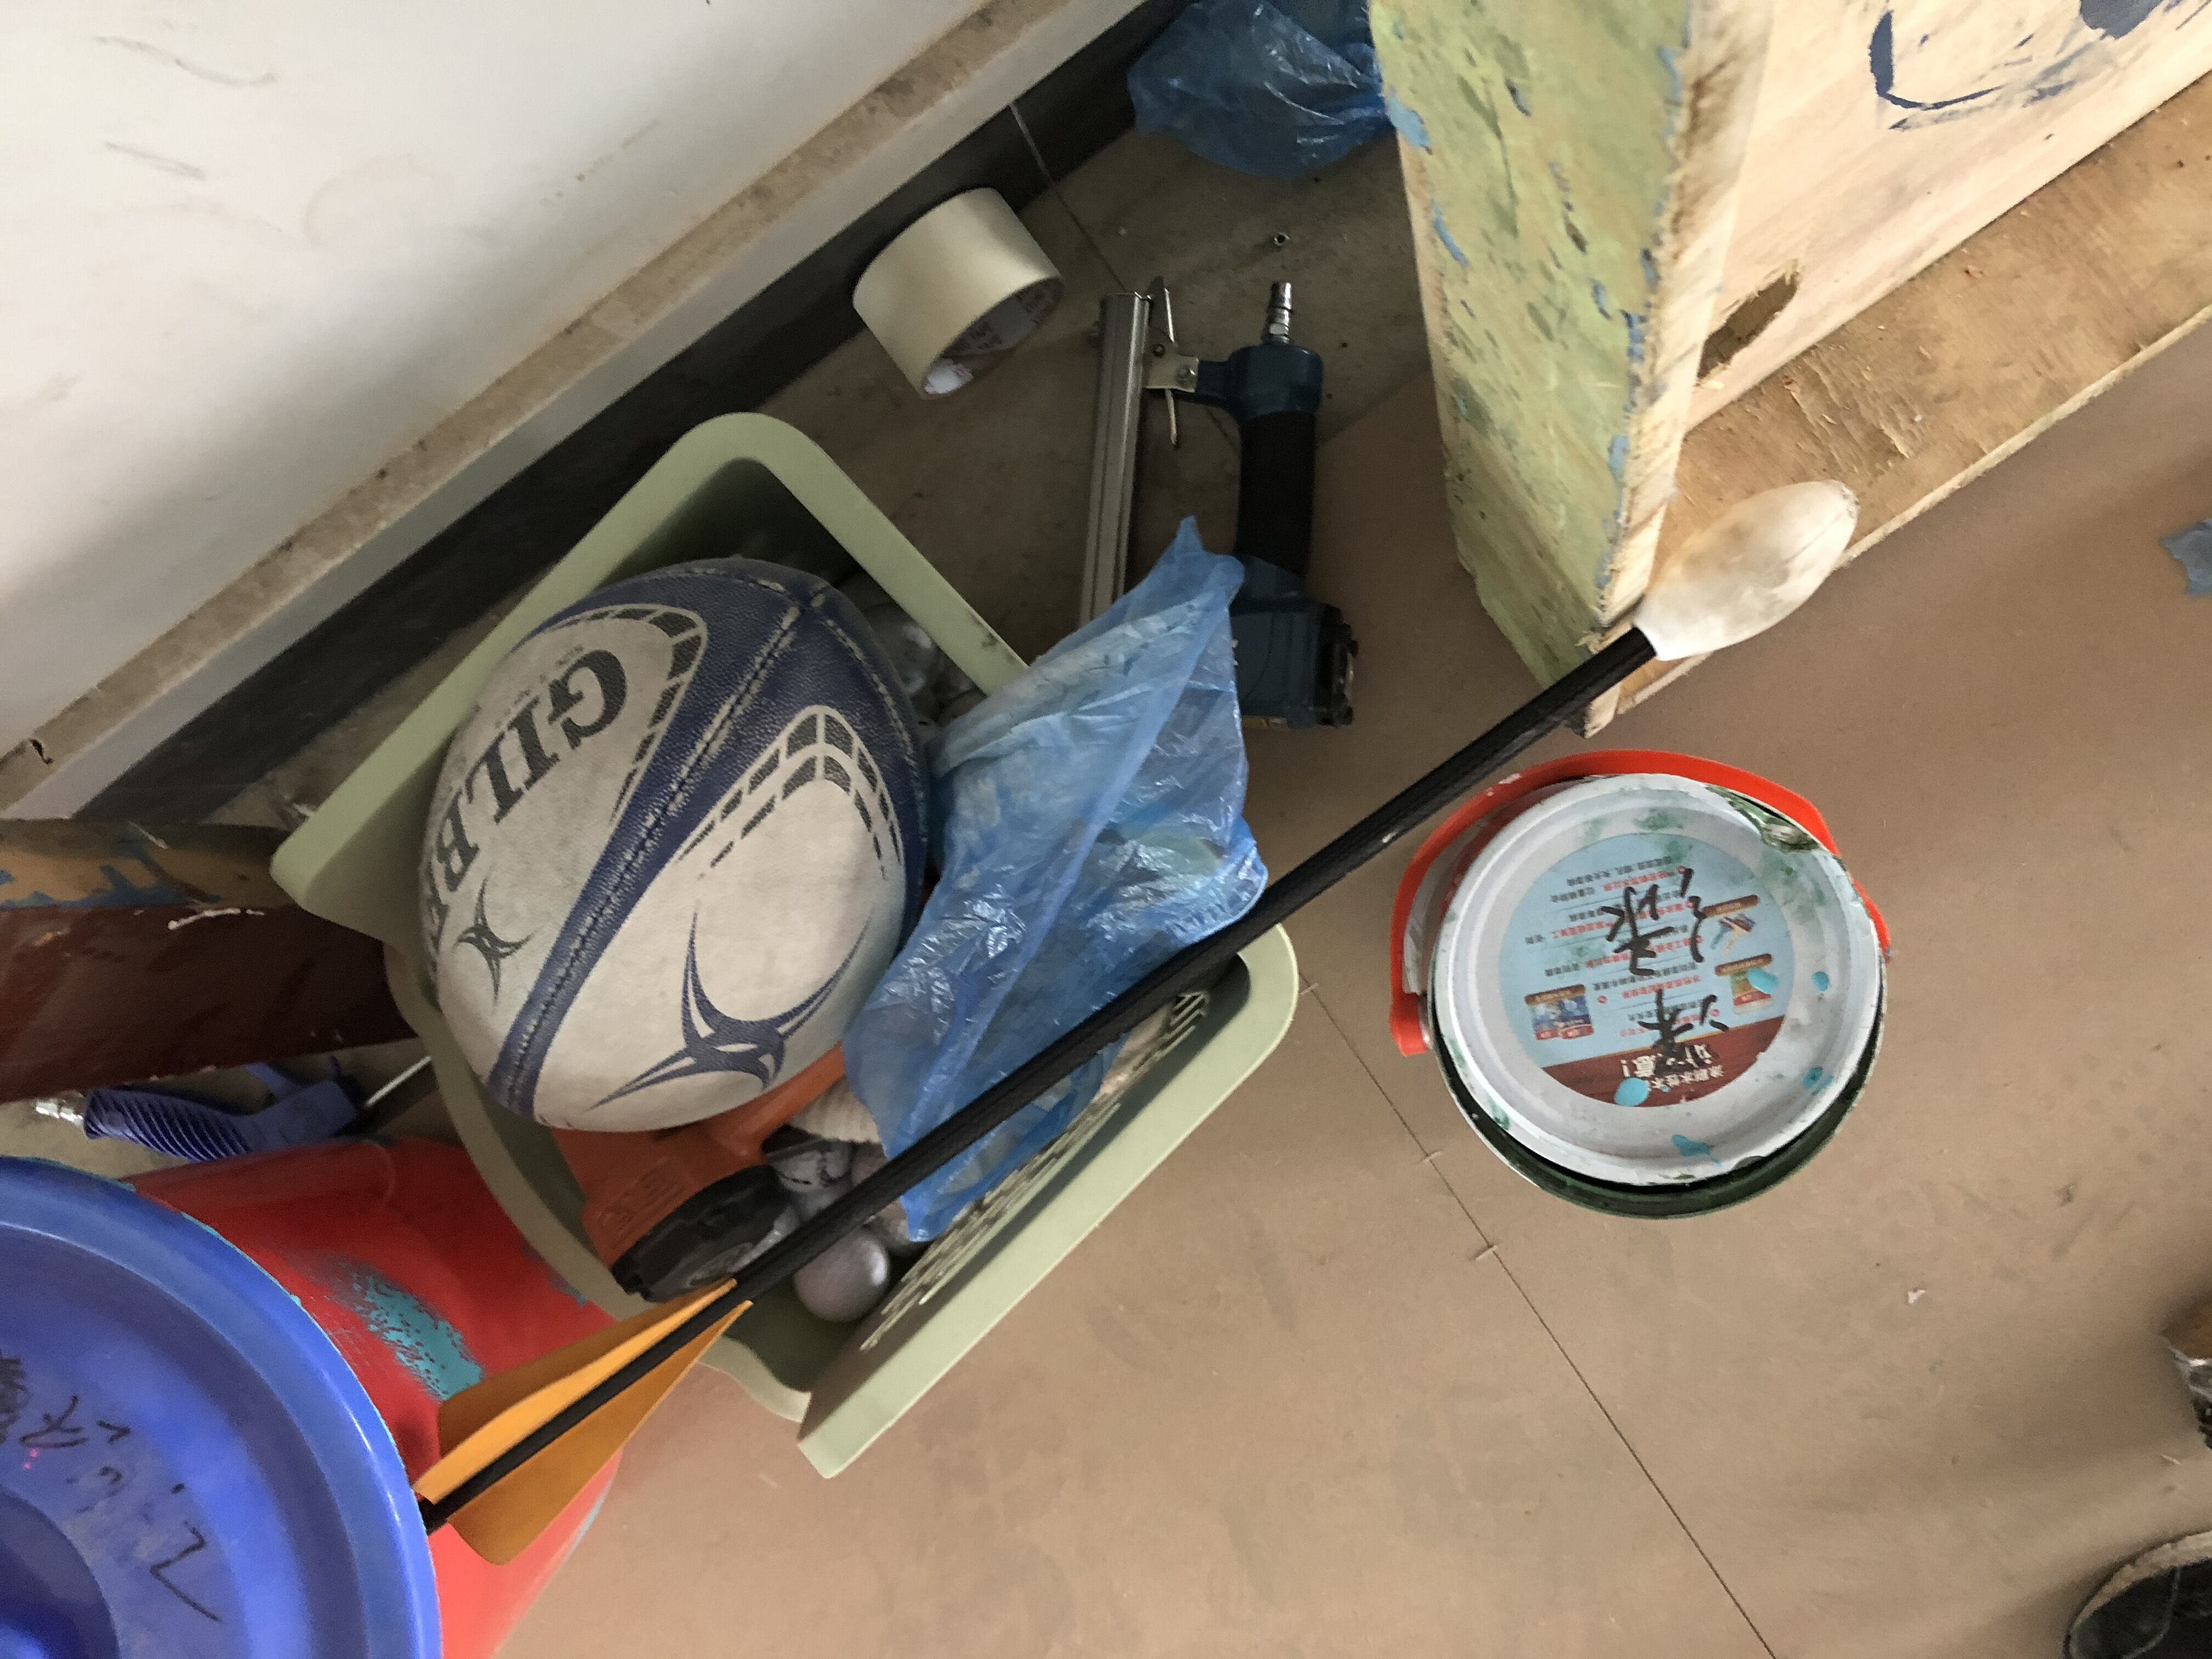arrow: (408, 476, 1858, 1563)
arrowFront: (1630, 476, 1858, 660)
